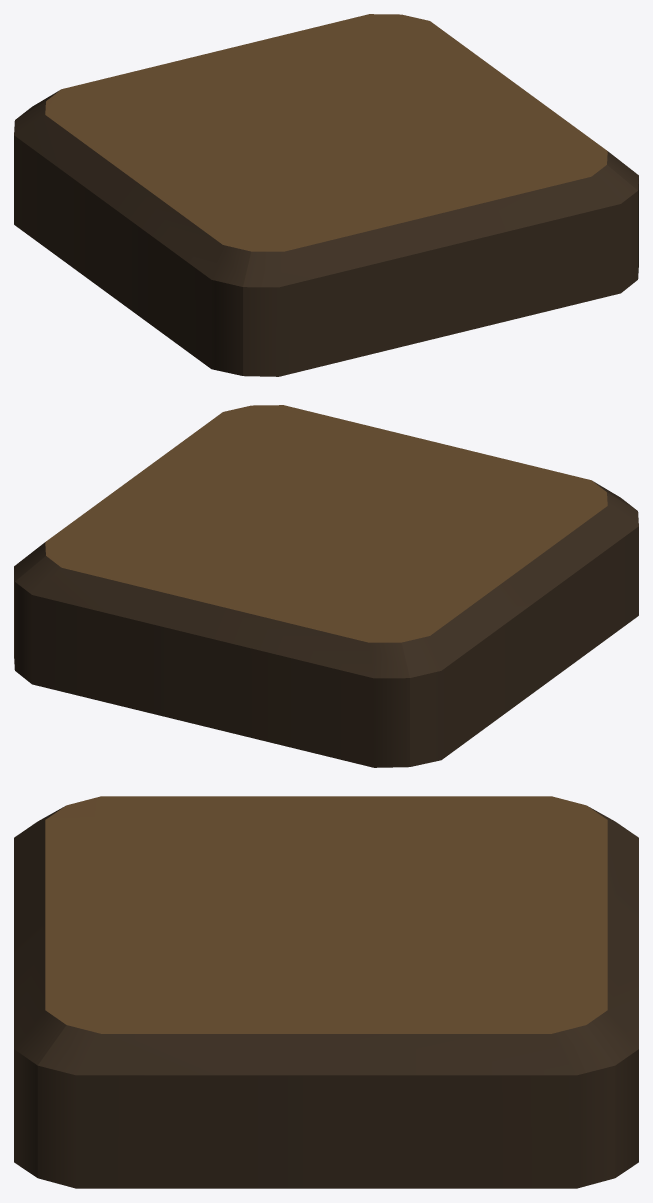
The model's file is Tile_Mud.fbx.
The picture shows the model from 3 angles, top to bottom: view 1: azimuth 30°, elevation 25°; view 2: azimuth 150°, elevation 25°; view 3: azimuth 270°, elevation 25°; orthographic projection. The views are drawn at different scales.
Visible parts, largest first — view 1: polySurface2; view 2: polySurface2; view 3: polySurface2.
Part boxes in pixels (x1=…): polySurface2: x1=14, y1=14, x2=638, y2=376; polySurface2: x1=14, y1=405, x2=638, y2=767; polySurface2: x1=14, y1=796, x2=638, y2=1188.
Bounding box in the file's own units: 0.3937 × 0.0984 × 0.3937.
